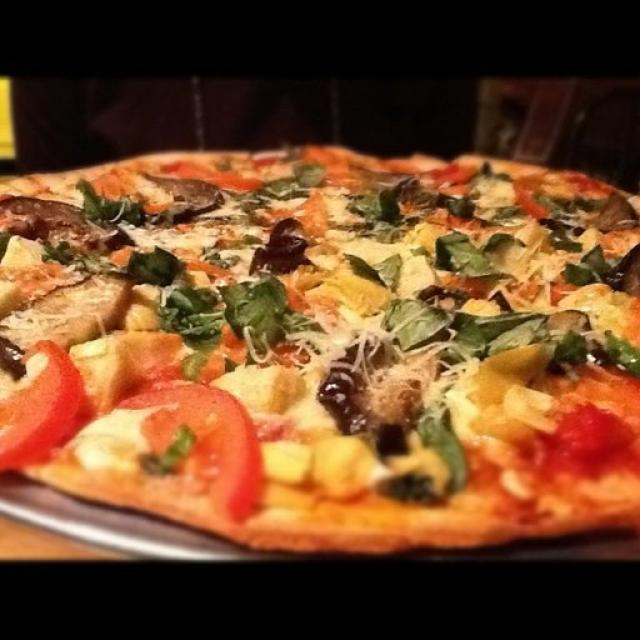Basil: (379, 301, 545, 351), (43, 244, 176, 285), (220, 286, 294, 356), (416, 407, 471, 488), (416, 184, 522, 223), (347, 182, 414, 242), (164, 286, 213, 367), (554, 331, 640, 373), (75, 180, 143, 228), (346, 243, 402, 295), (436, 230, 490, 282), (261, 159, 324, 199), (140, 429, 190, 473), (528, 185, 608, 212), (536, 212, 582, 251), (560, 244, 600, 281), (474, 160, 518, 183), (204, 240, 234, 271), (483, 232, 516, 251)
Eggplant: (316, 339, 466, 438), (0, 273, 129, 362), (0, 194, 127, 253), (394, 289, 514, 348), (147, 170, 229, 223), (516, 307, 592, 349), (254, 221, 302, 276), (578, 196, 635, 233), (606, 238, 640, 295)
Pizza: (1, 146, 640, 551)
Tomato: (131, 387, 262, 519), (0, 331, 91, 471), (560, 399, 632, 462)
